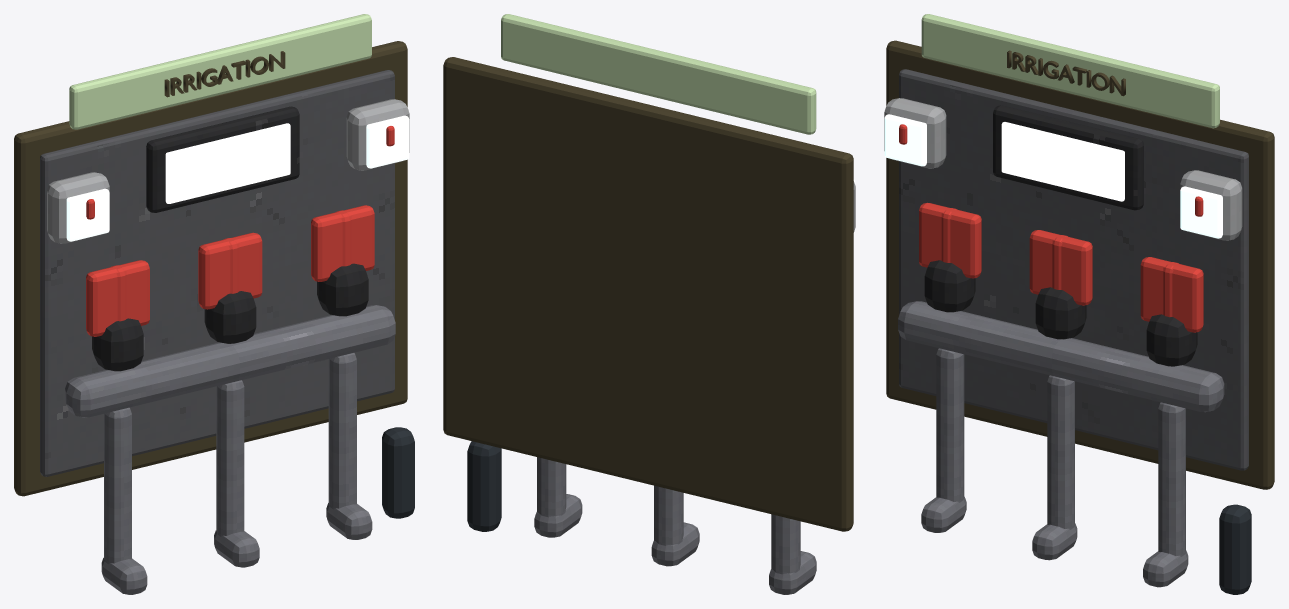
The model's file is decor_bot_irrigation_panel.glb.
3 views of the same model, side by side, from view 1: azimuth 30°, elevation 25°; view 2: azimuth 150°, elevation 25°; view 3: azimuth 330°, elevation 25° (orthographic). The views are drawn at different scales.
Visible parts, largest first — view 1: DEC_BotIrrigationPanel__Face, DEC_BotIrrigationPanel__Backing, DEC_BotIrrigationPanel__Manifold_Pipe, DEC_BotIrrigationPanel__Header, DEC_BotIrrigationPanel__Readout_Glow, DEC_BotIrrigationPanel__Readout_Bezel, DEC_BotIrrigationPanel__Drop_Pipe_3, DEC_BotIrrigationPanel__Drop_Pipe_2, DEC_BotIrrigationPanel__Drop_Pipe_1, DEC_BotIrrigationPanel__Valve_Wheel_2, DEC_BotIrrigationPanel__Valve_Wheel_3, DEC_BotIrrigationPanel__Valve_Wheel_1 (+15 smaller); view 2: DEC_BotIrrigationPanel__Backing, DEC_BotIrrigationPanel__Header, DEC_BotIrrigationPanel__Hose_Tail, DEC_BotIrrigationPanel__Drop_Pipe_1, DEC_BotIrrigationPanel__Drop_Pipe_2, DEC_BotIrrigationPanel__Drop_Pipe_3, DEC_BotIrrigationPanel__Drop_Elbow_3, DEC_BotIrrigationPanel__Drop_Elbow_2, DEC_BotIrrigationPanel__Drop_Elbow_1; view 3: DEC_BotIrrigationPanel__Face, DEC_BotIrrigationPanel__Backing, DEC_BotIrrigationPanel__Manifold_Pipe, DEC_BotIrrigationPanel__Header, DEC_BotIrrigationPanel__Readout_Glow, DEC_BotIrrigationPanel__Readout_Bezel, DEC_BotIrrigationPanel__Drop_Pipe_1, DEC_BotIrrigationPanel__Drop_Pipe_2, DEC_BotIrrigationPanel__Drop_Pipe_3, DEC_BotIrrigationPanel__Valve_Wheel_3, DEC_BotIrrigationPanel__Valve_Wheel_2, DEC_BotIrrigationPanel__Valve_Wheel_1 (+15 smaller).
Part boxes in pixels (x1,y1,x2,y2): DEC_BotIrrigationPanel__Face: (40,70,394,476); DEC_BotIrrigationPanel__Backing: (14,41,407,496); DEC_BotIrrigationPanel__Manifold_Pipe: (65,305,395,417); DEC_BotIrrigationPanel__Header: (69,14,371,129); DEC_BotIrrigationPanel__Readout_Glow: (165,123,290,203); DEC_BotIrrigationPanel__Readout_Bezel: (146,106,299,212); DEC_BotIrrigationPanel__Drop_Pipe_3: (328,353,356,509); DEC_BotIrrigationPanel__Drop_Pipe_2: (216,380,244,536); DEC_BotIrrigationPanel__Drop_Pipe_1: (104,407,131,564); DEC_BotIrrigationPanel__Valve_Wheel_2: (198,232,262,309); DEC_BotIrrigationPanel__Valve_Wheel_3: (311,205,374,281); DEC_BotIrrigationPanel__Valve_Wheel_1: (86,260,149,336); DEC_BotIrrigationPanel__Backing: (443,57,853,531); DEC_BotIrrigationPanel__Header: (501,14,816,134); DEC_BotIrrigationPanel__Hose_Tail: (467,441,501,531); DEC_BotIrrigationPanel__Drop_Pipe_1: (771,514,800,574); DEC_BotIrrigationPanel__Drop_Pipe_2: (654,485,683,545); DEC_BotIrrigationPanel__Drop_Pipe_3: (537,457,566,517); DEC_BotIrrigationPanel__Drop_Elbow_3: (534,494,582,537); DEC_BotIrrigationPanel__Drop_Elbow_2: (651,522,699,566); DEC_BotIrrigationPanel__Drop_Elbow_1: (769,551,816,594); DEC_BotIrrigationPanel__Face: (899,69,1248,470); DEC_BotIrrigationPanel__Backing: (886,40,1274,489); DEC_BotIrrigationPanel__Manifold_Pipe: (898,301,1224,412); DEC_BotIrrigationPanel__Header: (921,14,1219,128); DEC_BotIrrigationPanel__Readout_Glow: (1001,122,1124,201); DEC_BotIrrigationPanel__Readout_Bezel: (993,105,1143,210); DEC_BotIrrigationPanel__Drop_Pipe_1: (936,348,964,502); DEC_BotIrrigationPanel__Drop_Pipe_2: (1047,375,1074,529); DEC_BotIrrigationPanel__Drop_Pipe_3: (1158,402,1185,556); DEC_BotIrrigationPanel__Valve_Wheel_3: (1140,257,1203,332); DEC_BotIrrigationPanel__Valve_Wheel_2: (1029,230,1092,305); DEC_BotIrrigationPanel__Valve_Wheel_1: (919,202,981,278).
Bounding box in the file's own units: 1.04 × 1.29 × 0.205.
10 materials, 4 textured.
